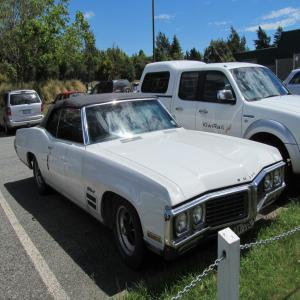Vehicle-registration-plate: (234, 217, 257, 238), (24, 110, 31, 115)
